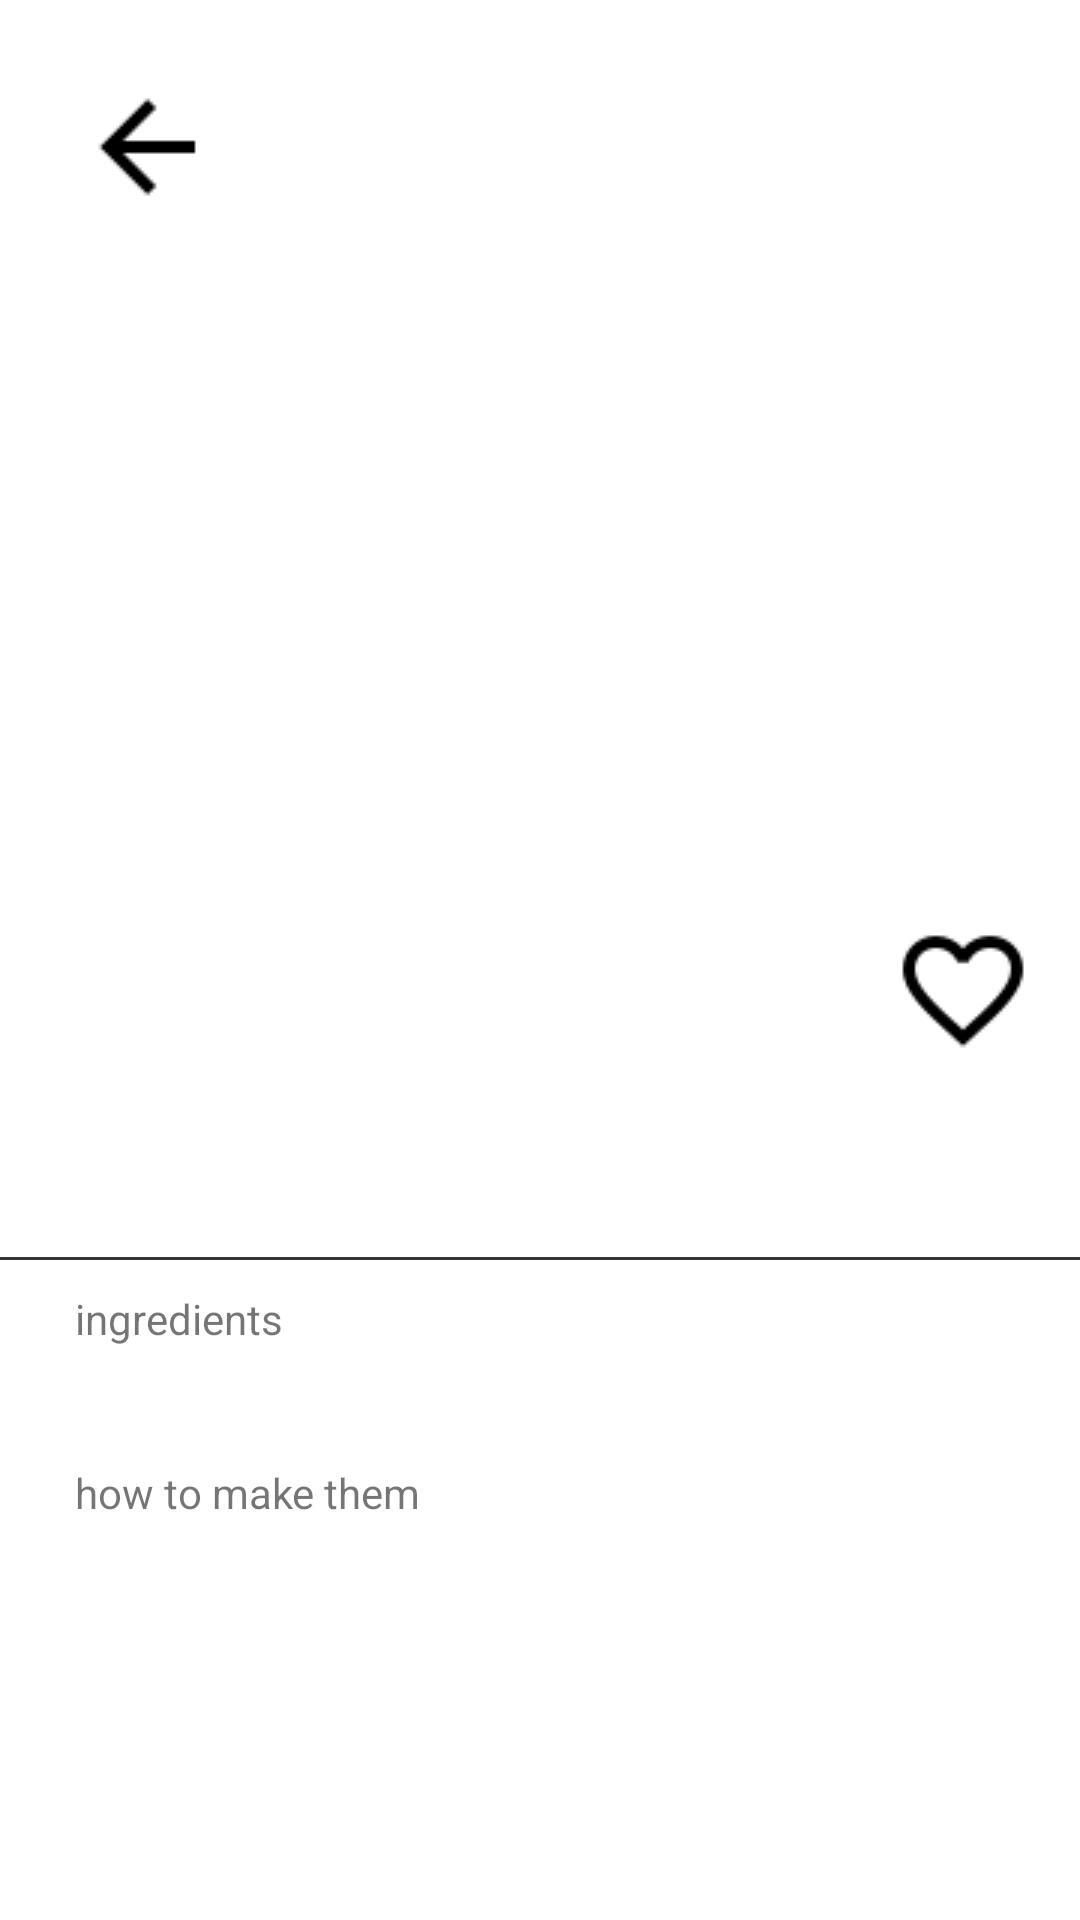

Locate icon controls on the screen. Image size 1080 × 1920, boxes as (x1, y1, x2, y2).
arrow left: (99, 98, 196, 196)
heart: (902, 935, 1024, 1047)
